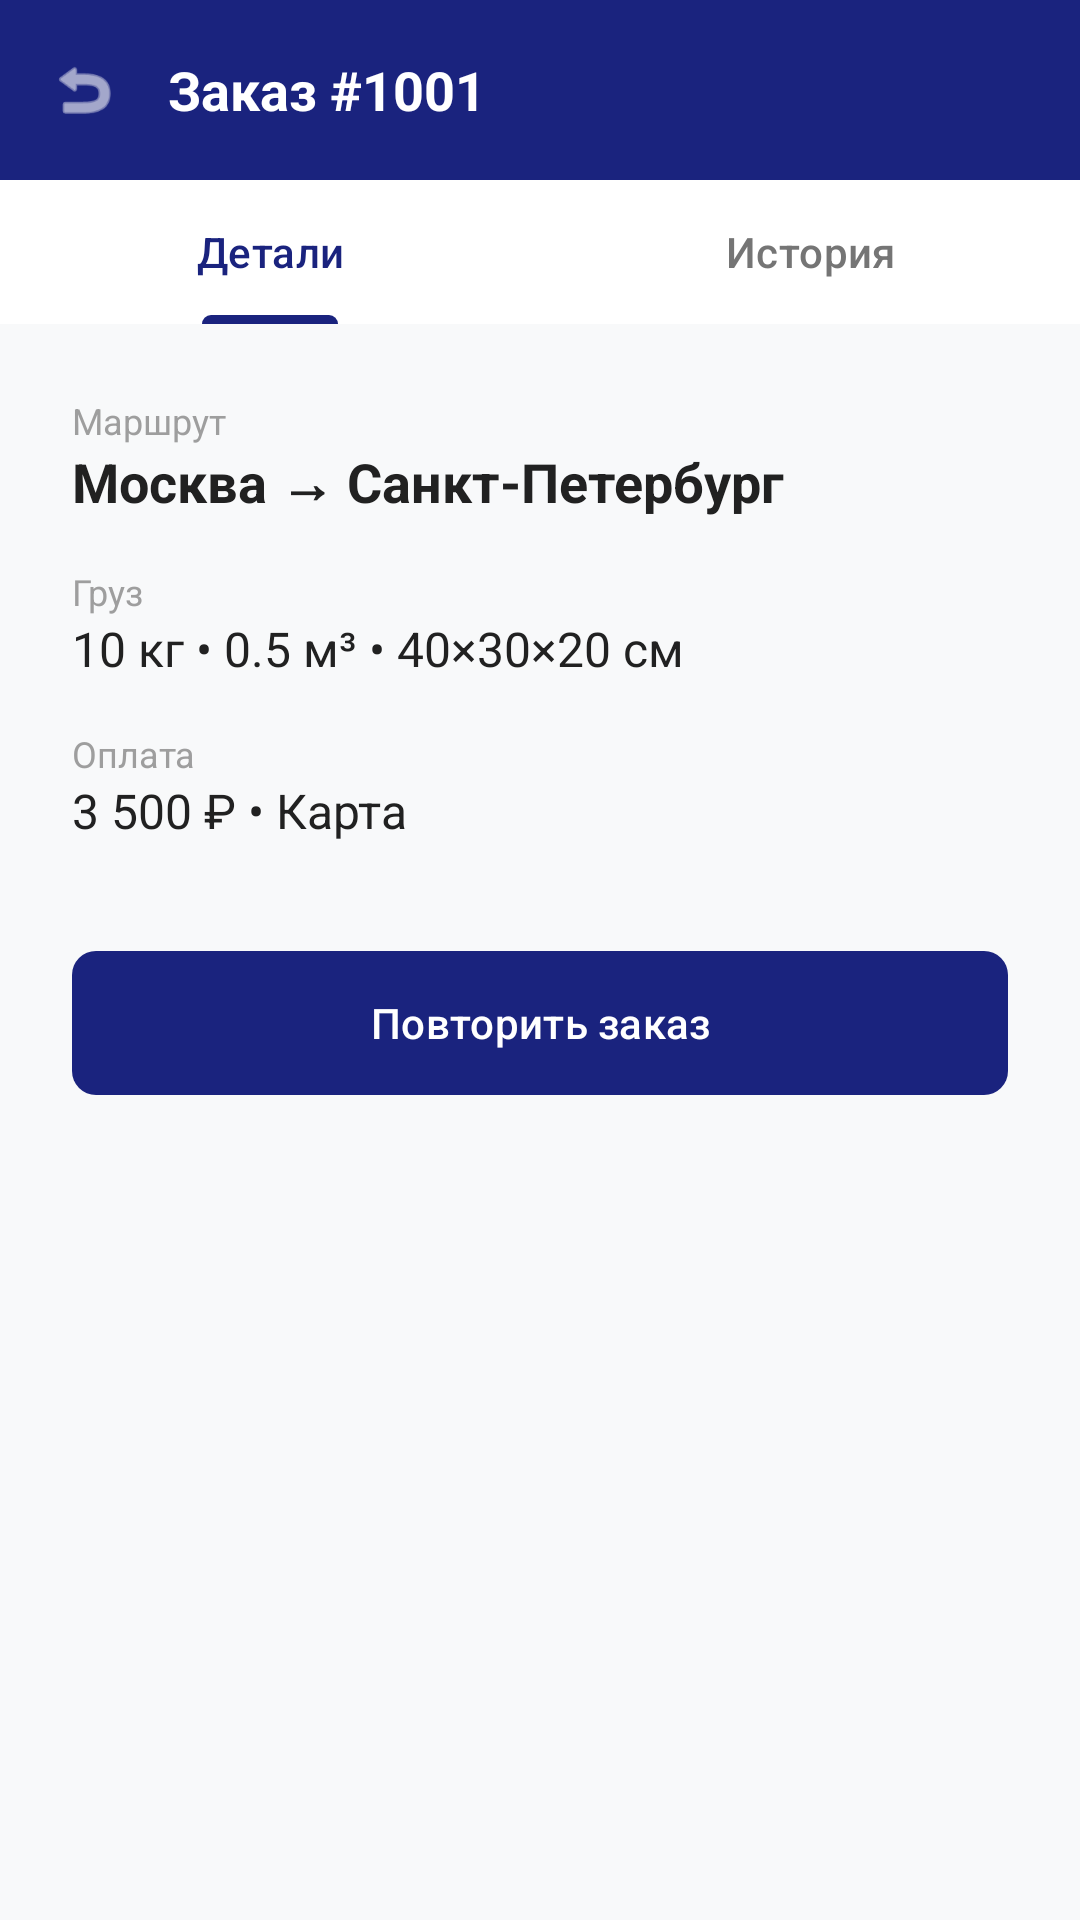

Icon bounding boxes for this 1080 x 1920 phone screenshot, format {"x1": x1, "y1": y1, "x2": x2, "y2": y2}:
revert: {"x1": 59, "y1": 67, "x2": 111, "y2": 114}
